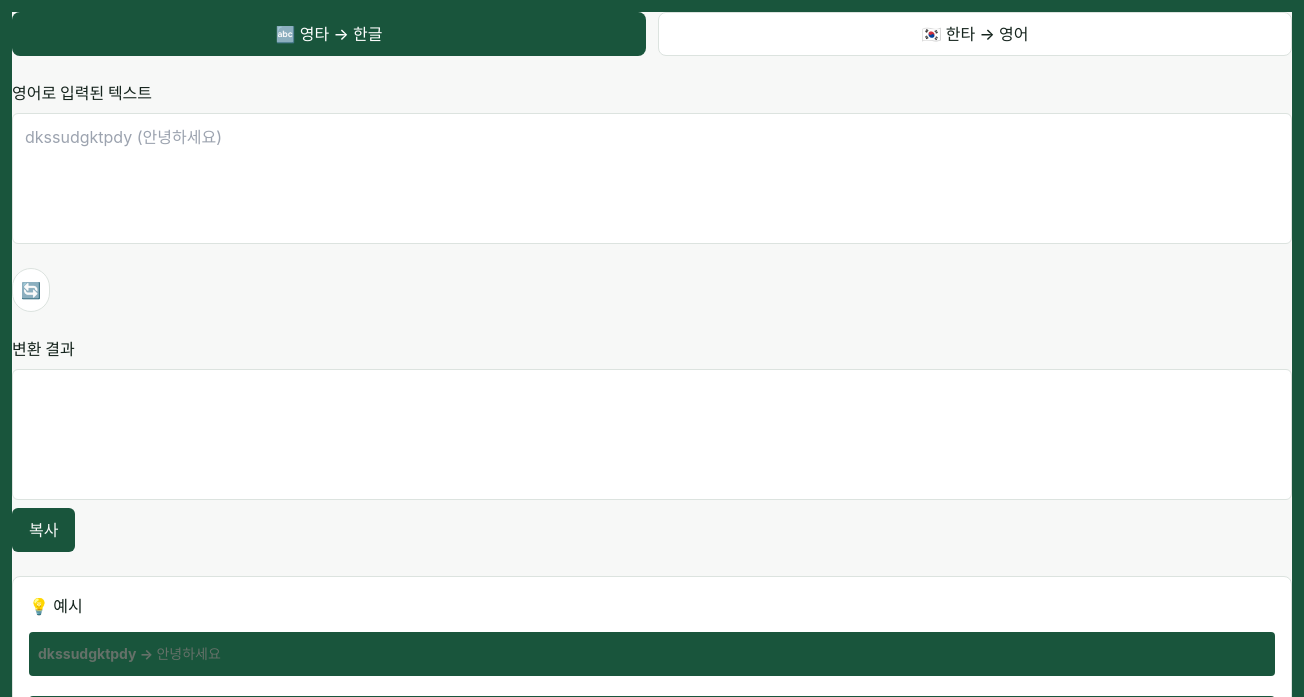
Scenario: legacy simple tool behavior › converts English keyboard input to Korean and swaps the direction
Type "dk" into the text box labelled "영어로 입력된 텍스트".
click(652, 179); type("dk")  # box [12,113,1292,244]
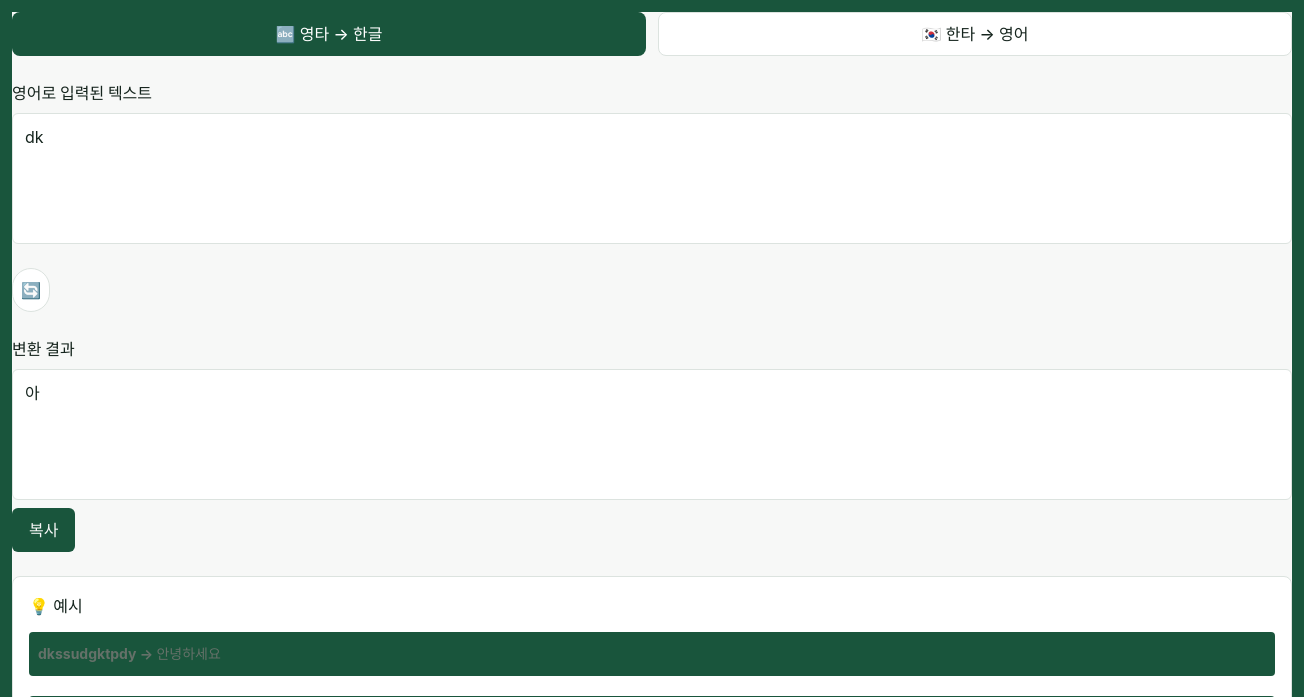
Check: the text box labelled "변환 결과" holds "아", box [12,369,1292,500]
Click the button "🔄".
click(31, 290)  # box [12,268,50,312]
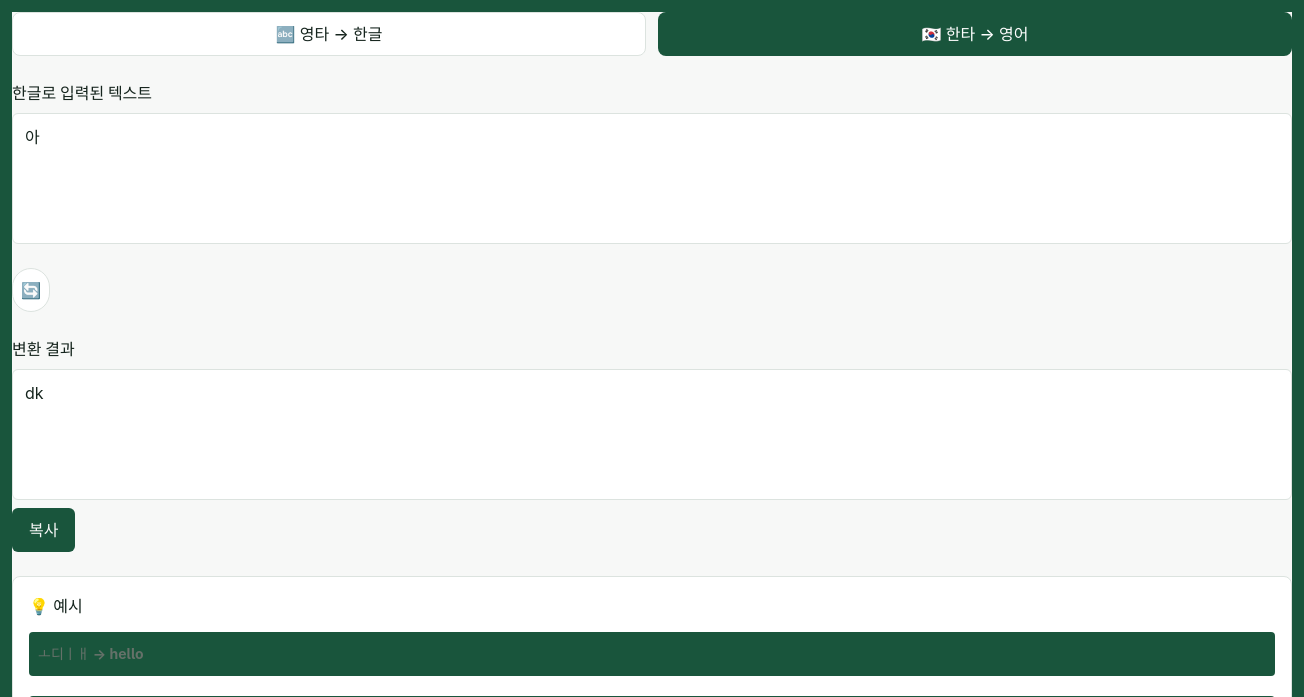
Check: the text box labelled "한글로 입력된 텍스트" holds "아", box [12,113,1292,244]
Check: the text box labelled "변환 결과" holds "dk", box [12,369,1292,500]
